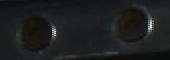joints: (14, 11, 58, 54), (108, 3, 154, 44)
